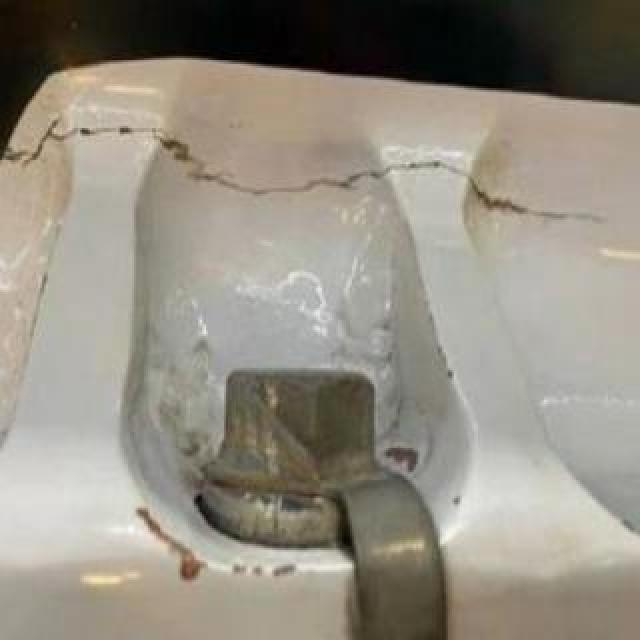crack: (2, 108, 610, 236)
